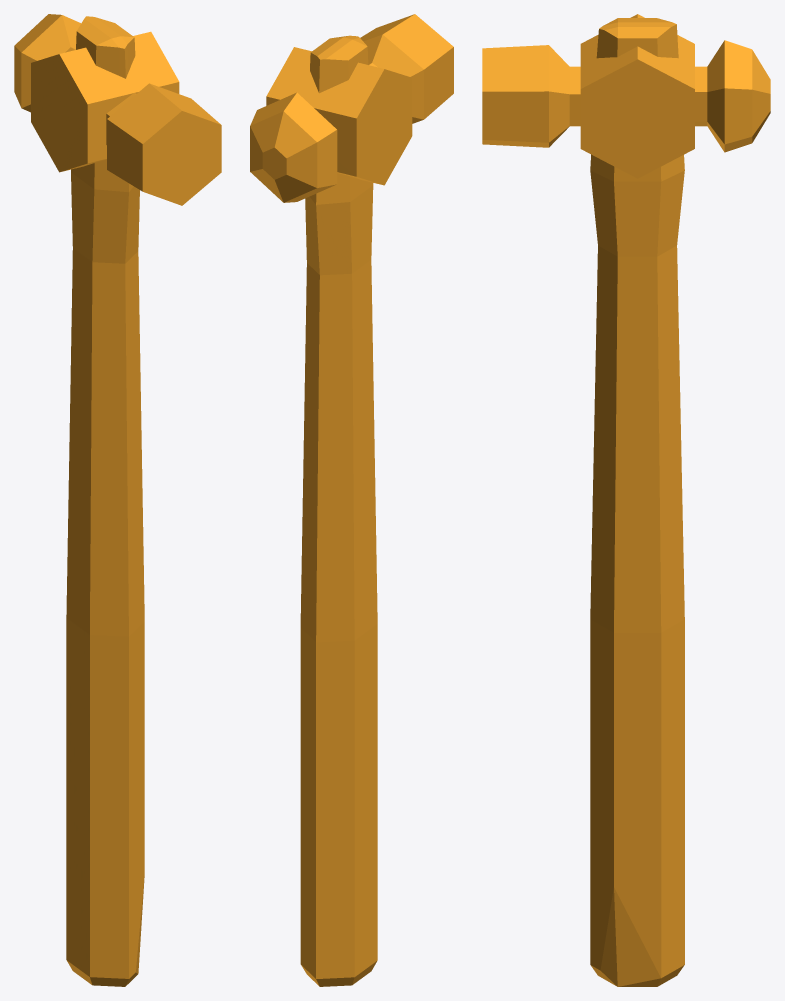
File: SM_Hammer_Blacksmith_B.fbx
The picture shows the model from 3 angles, left to right: view 1: azimuth 30°, elevation 25°; view 2: azimuth 150°, elevation 25°; view 3: azimuth 270°, elevation 25°; orthographic projection. The views are drawn at different scales.
Visible parts, largest first — view 1: hammer-blacksmith-b; view 2: hammer-blacksmith-b; view 3: hammer-blacksmith-b.
Boxes of the visible parts, <box> form: hammer-blacksmith-b: <box>14,14,221,986</box>; hammer-blacksmith-b: <box>250,14,453,986</box>; hammer-blacksmith-b: <box>482,14,770,986</box>.
Size of the model in its own units: 0.0382 by 0.3742 by 0.1028.
